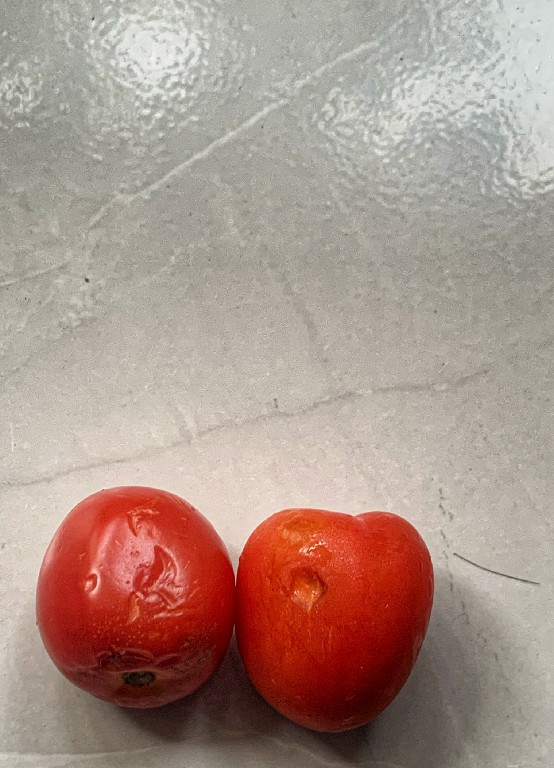NG: (239, 502, 436, 737), (31, 485, 231, 713)
